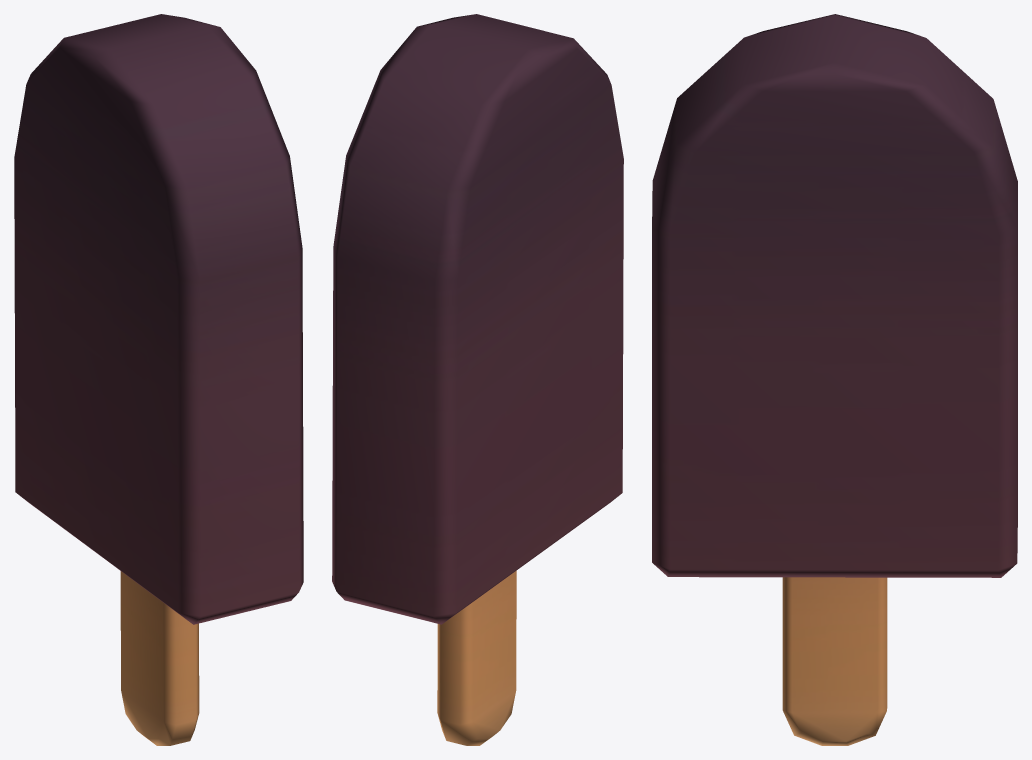
File: Ice Cream Stick.fbx
3 renders of one model, left to right at view 1: azimuth 30°, elevation 25°; view 2: azimuth 150°, elevation 25°; view 3: azimuth 270°, elevation 25°, orthographic.
Visible parts, largest first — view 1: Ice Cream Stick; view 2: Ice Cream Stick; view 3: Ice Cream Stick.
Boxes of the visible parts, x1,y1,x2,y2 form: Ice Cream Stick: (14, 14, 303, 745); Ice Cream Stick: (332, 14, 623, 745); Ice Cream Stick: (652, 14, 1017, 745).
Size of the model in its own units: 8.03 by 42.16 by 19.94.
